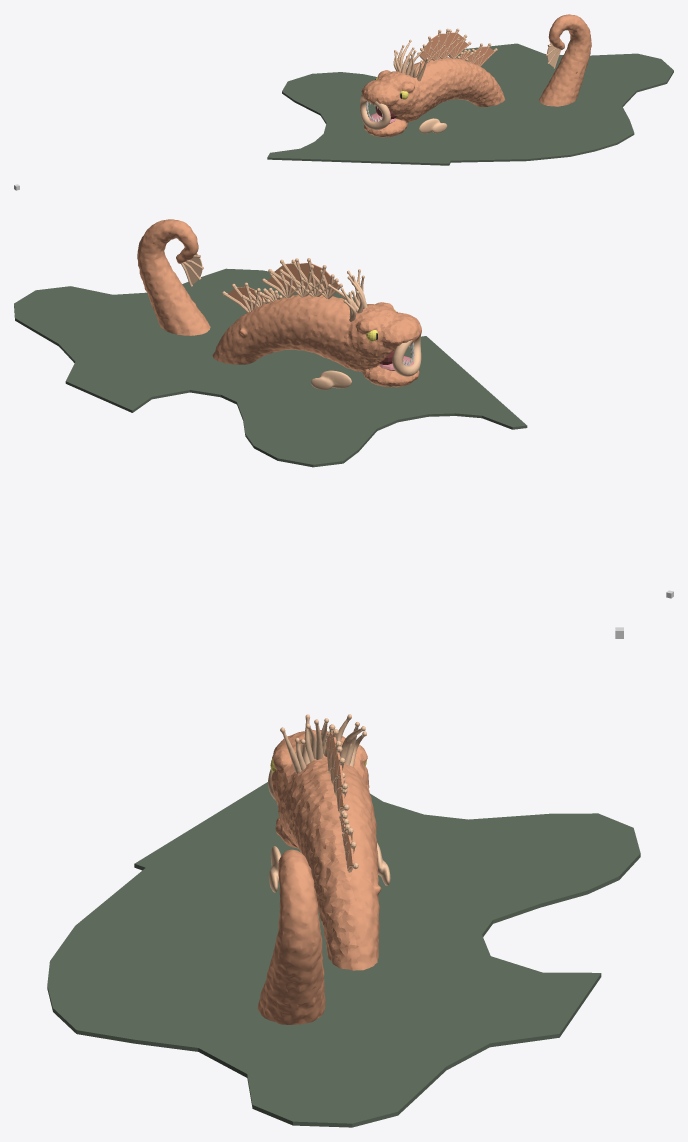
File: PK_vis.fbx
3 views of the same model, one above another, from view 1: azimuth 30°, elevation 25°; view 2: azimuth 150°, elevation 25°; view 3: azimuth 270°, elevation 25° (orthographic). The views are drawn at different scales.
Parts seen in each view (by area): view 1: static__MAT_water_0, static__MAT_visoranje_1, static__MAT_visoranje_0, static__MAT_visoranje_2, static__MAT_vislicht_2, static__MAT_vislicht_1, static__MAT_vislicht_0; view 2: static__MAT_water_0, static__MAT_visoranje_0, static__MAT_visoranje_2, static__MAT_visoranje_1, static__MAT_vislicht_2, static__MAT_vislicht_1, static__MAT_vislicht_0; view 3: static__MAT_water_0, static__MAT_visoranje_0, static__MAT_visoranje_1, static__MAT_visoranje_2, static__MAT_vislicht_2, static__MAT_vislicht_1.
Part boxes in pixels (left/top/right/bottom): static__MAT_water_0: left=267, top=43, right=673, bottom=165; static__MAT_visoranje_1: left=362, top=32, right=503, bottom=136; static__MAT_visoranje_0: left=361, top=57, right=505, bottom=137; static__MAT_visoranje_2: left=539, top=14, right=591, bottom=106; static__MAT_vislicht_2: left=417, top=28, right=561, bottom=133; static__MAT_vislicht_1: left=393, top=39, right=428, bottom=81; static__MAT_vislicht_0: left=360, top=94, right=390, bottom=130; static__MAT_water_0: left=14, top=268, right=527, bottom=467; static__MAT_visoranje_0: left=212, top=295, right=421, bottom=387; static__MAT_visoranje_2: left=137, top=219, right=210, bottom=335; static__MAT_visoranje_1: left=228, top=263, right=421, bottom=387; static__MAT_vislicht_2: left=181, top=253, right=351, bottom=390; static__MAT_vislicht_1: left=327, top=269, right=367, bottom=321; static__MAT_vislicht_0: left=392, top=334, right=421, bottom=376; static__MAT_water_0: left=47, top=782, right=640, bottom=1127; static__MAT_visoranje_0: left=271, top=730, right=381, bottom=970; static__MAT_visoranje_1: left=271, top=730, right=369, bottom=965; static__MAT_visoranje_2: left=257, top=849, right=325, bottom=1024; static__MAT_vislicht_2: left=269, top=724, right=390, bottom=892; static__MAT_vislicht_1: left=280, top=714, right=366, bottom=773.
Bounding box in the file's own units: 30.71 × 6.37 × 13.62.
